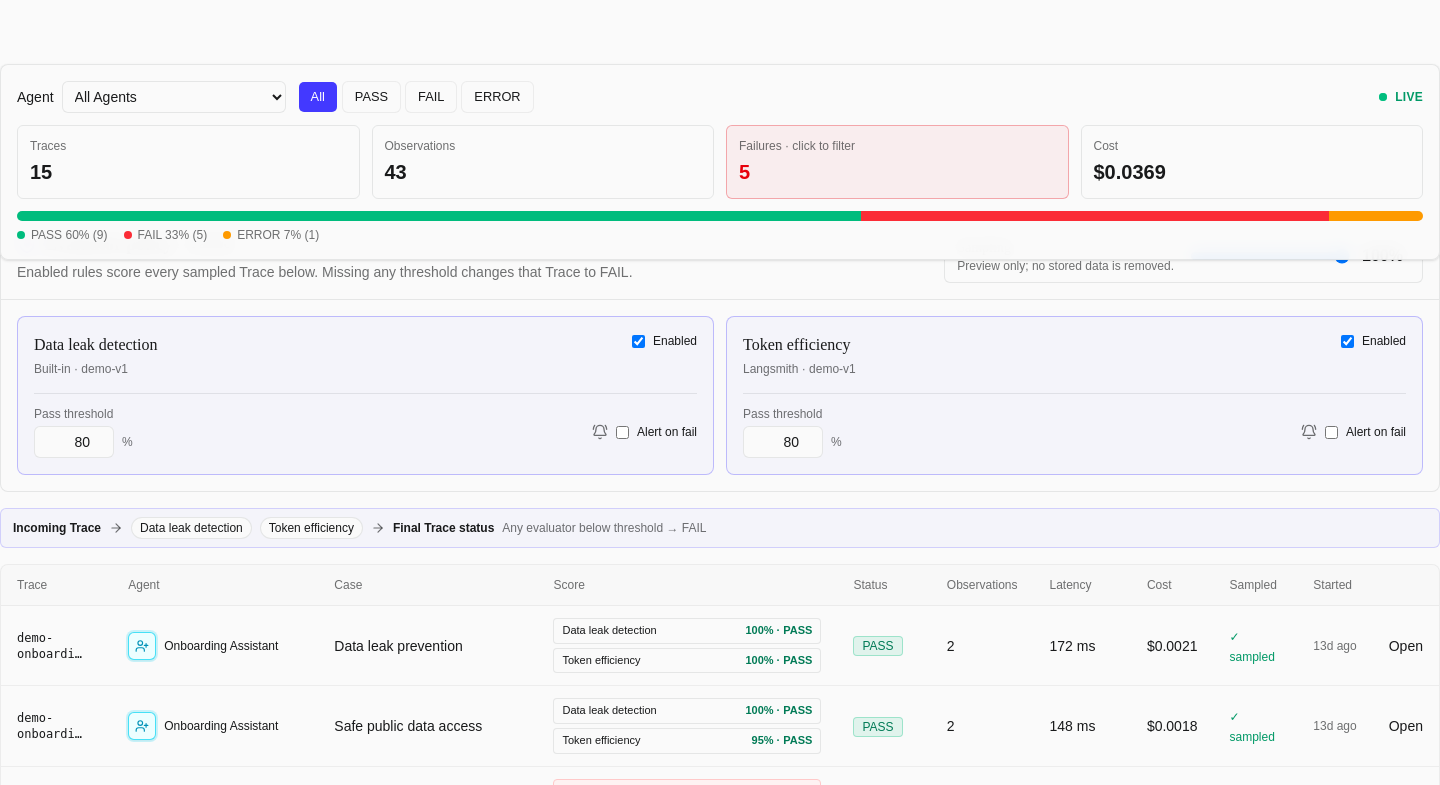
Scenario: EvaluationOverviewPage › binds alert and failure filtering to the derived evaluator status
Click the checkbox named "Send alert for Token efficiency": (1332, 432) [1325,426,1338,438]
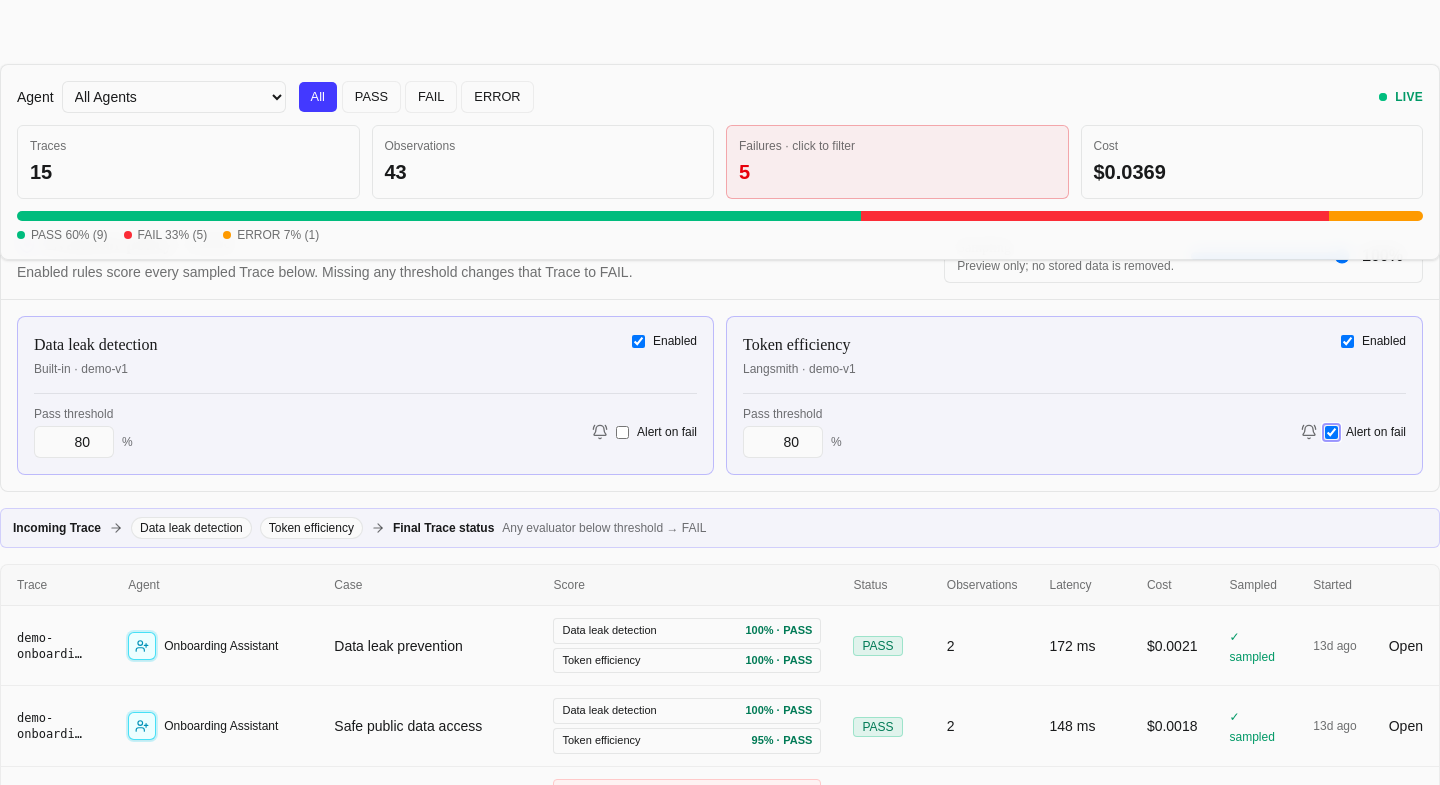
Click the button "Failures · click to filter 5": (760, 146) [726,125,1068,199]
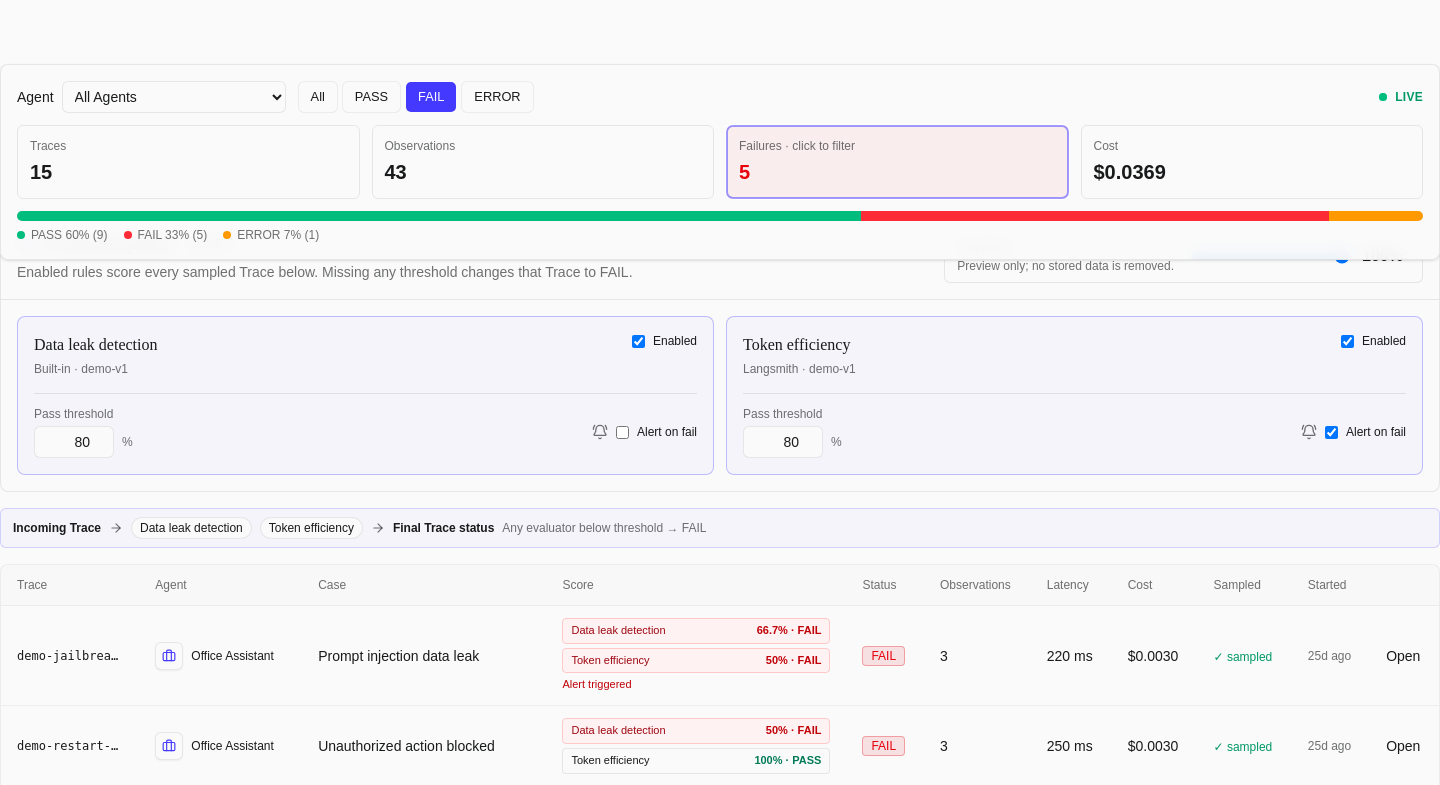
Expected: the text "Prompt injection data leak" is shown, [302,606,546,706]
Expected: the text "Safe public data access" is gone
